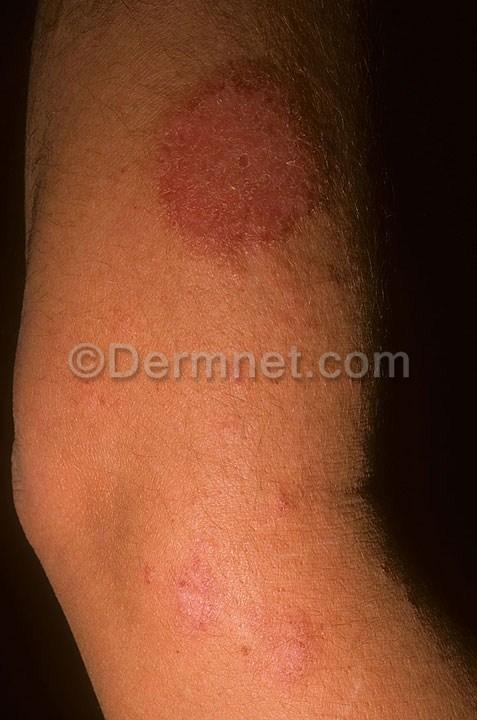Eczema: (120, 42, 353, 279), (132, 551, 239, 663), (236, 435, 309, 546), (243, 601, 346, 677), (73, 276, 135, 357), (67, 374, 130, 446)
